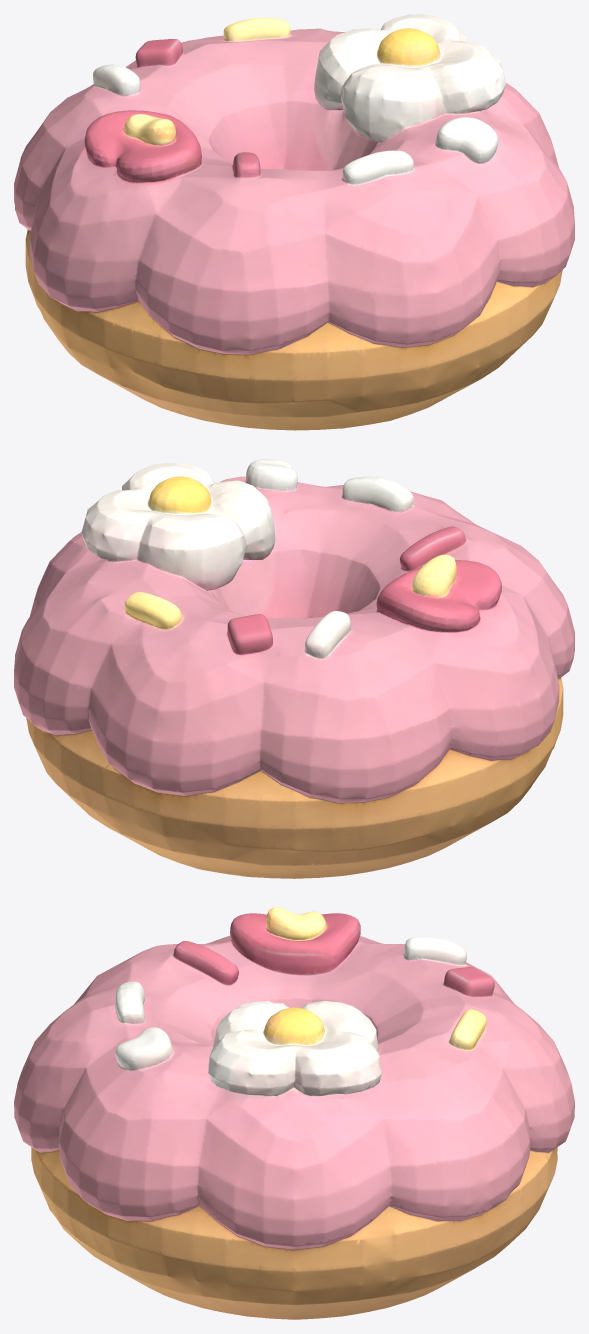
The model's file is Meshy_AI_Pink_Blossom_Donut_0521073042_texture.fbx.
3 views of the same model, one above another, from view 1: azimuth 30°, elevation 25°; view 2: azimuth 150°, elevation 25°; view 3: azimuth 270°, elevation 25° (orthographic). The views are drawn at different scales.
Parts seen in each view (by area): view 1: Mesh_0; view 2: Mesh_0; view 3: Mesh_0.
Part boxes in pixels (x1=…): Mesh_0: x1=14, y1=14, x2=574, y2=430; Mesh_0: x1=14, y1=459, x2=574, y2=878; Mesh_0: x1=14, y1=907, x2=574, y2=1319.
Bounding box in the file's own units: 190 × 108 × 190.
1 material, 1 textured.
